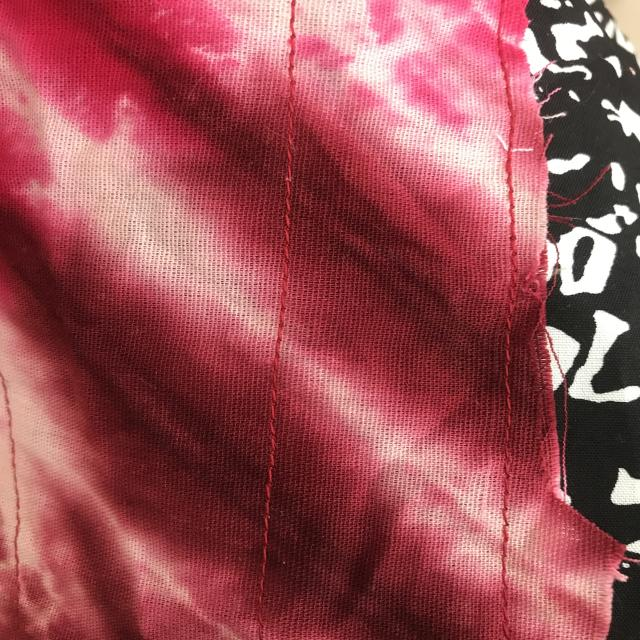good: (253, 487, 278, 567), (276, 182, 304, 250)
